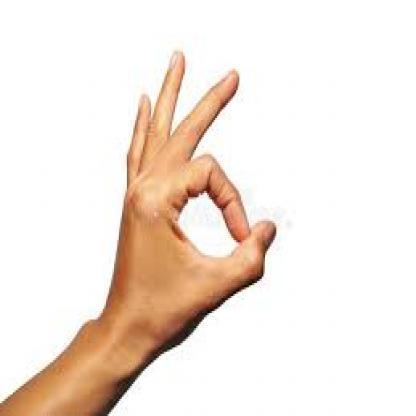ok: (113, 43, 278, 351)
